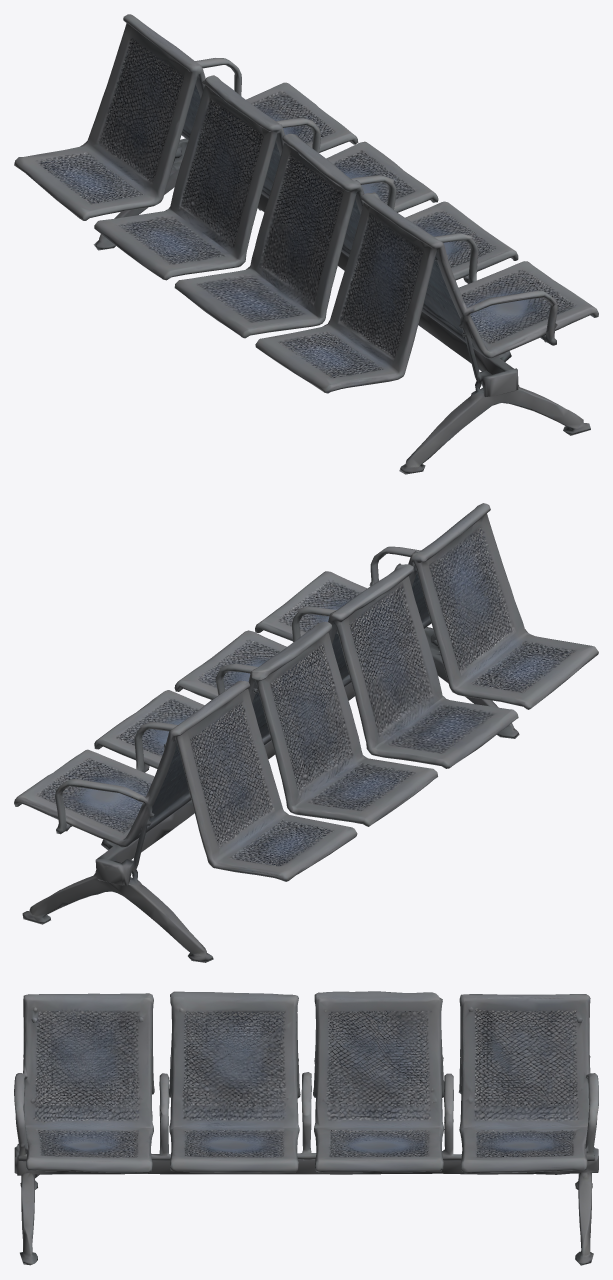
The model's file is gate-seating.glb.
3 views of the same model, one above another, from view 1: azimuth 30°, elevation 25°; view 2: azimuth 150°, elevation 25°; view 3: azimuth 270°, elevation 25° (orthographic). The views are drawn at different scales.
Visible parts, largest first — view 1: tripo_node_01a217dc-29da-72cd-8667-116addbd6ba6; view 2: tripo_node_01a217dc-29da-72cd-8667-116addbd6ba6; view 3: tripo_node_01a217dc-29da-72cd-8667-116addbd6ba6.
Part boxes in pixels (x1,y1,x2,y2): tripo_node_01a217dc-29da-72cd-8667-116addbd6ba6: [14, 14, 598, 474]; tripo_node_01a217dc-29da-72cd-8667-116addbd6ba6: [14, 503, 598, 962]; tripo_node_01a217dc-29da-72cd-8667-116addbd6ba6: [14, 991, 598, 1265].
Size of the model in its own units: 0.4947 by 0.3826 by 1.
1 material, 1 textured.
